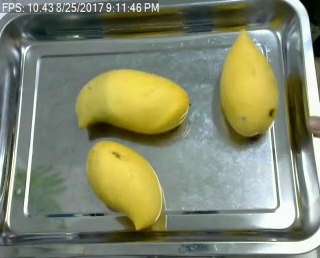Mango: (73, 66, 190, 134), (83, 141, 169, 230), (217, 30, 283, 140)
